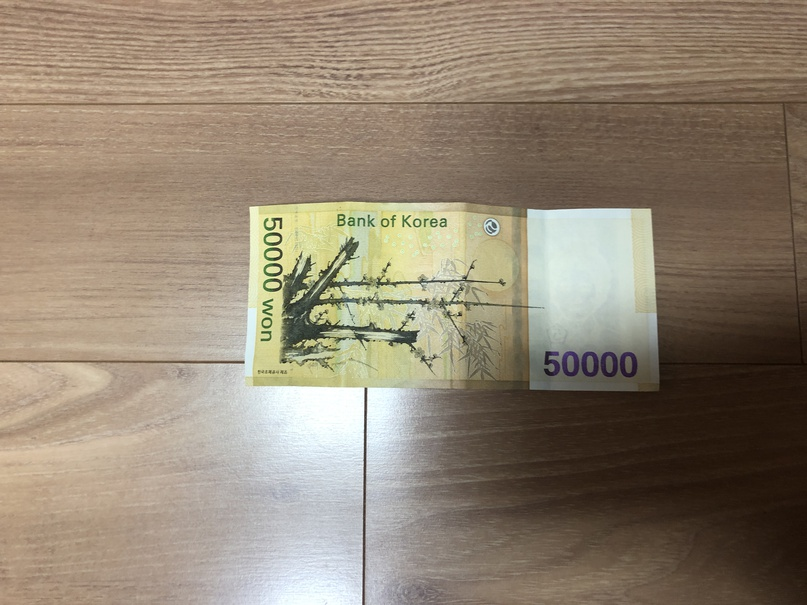50000won: (244, 202, 661, 392)
